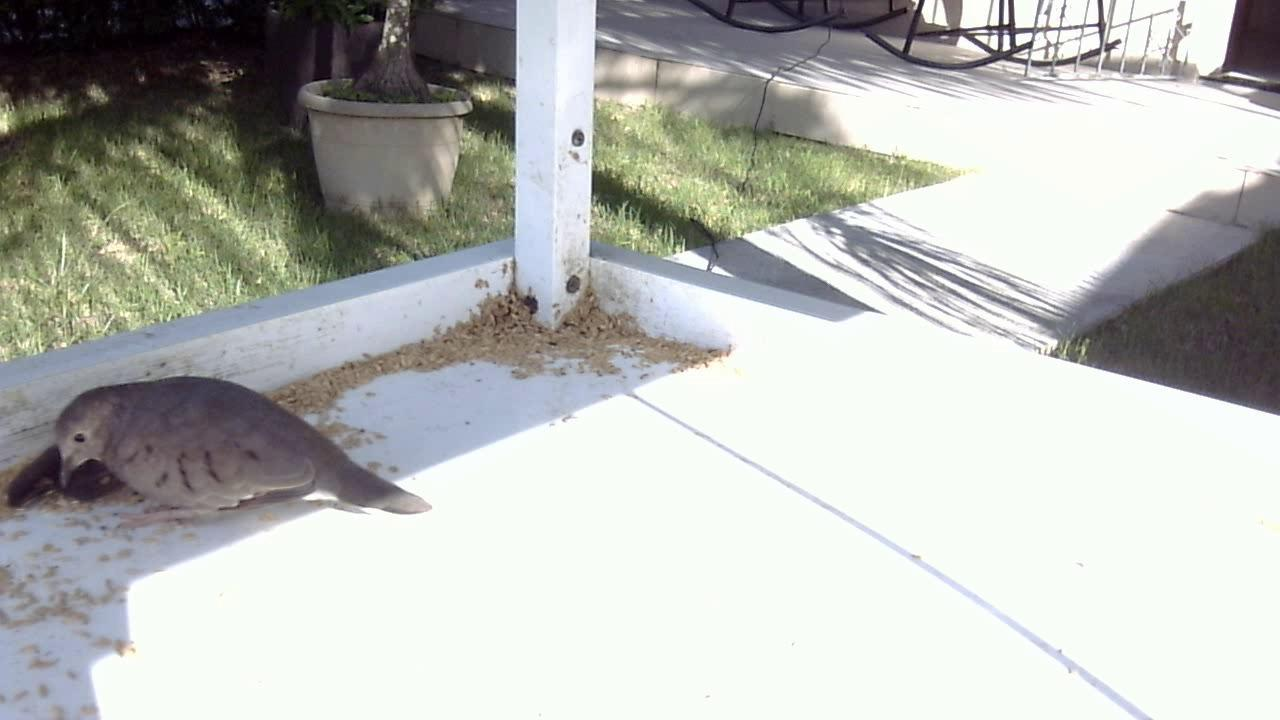rolinha: (14, 363, 442, 554)
